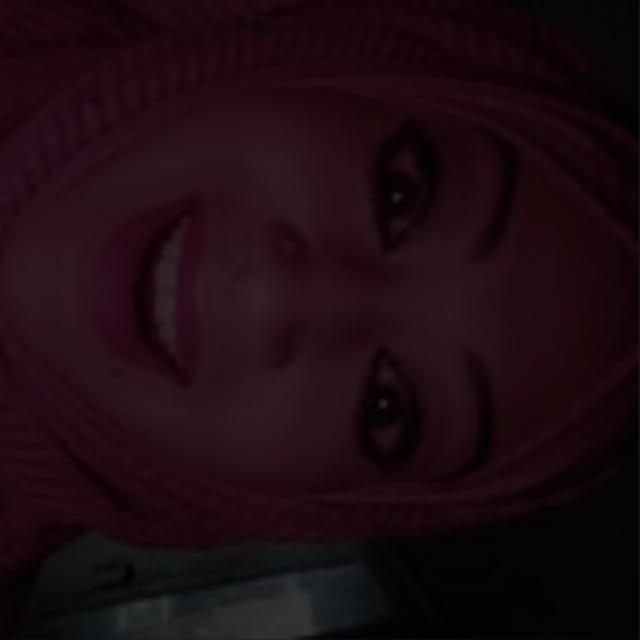Surprised: (63, 28, 588, 587)
